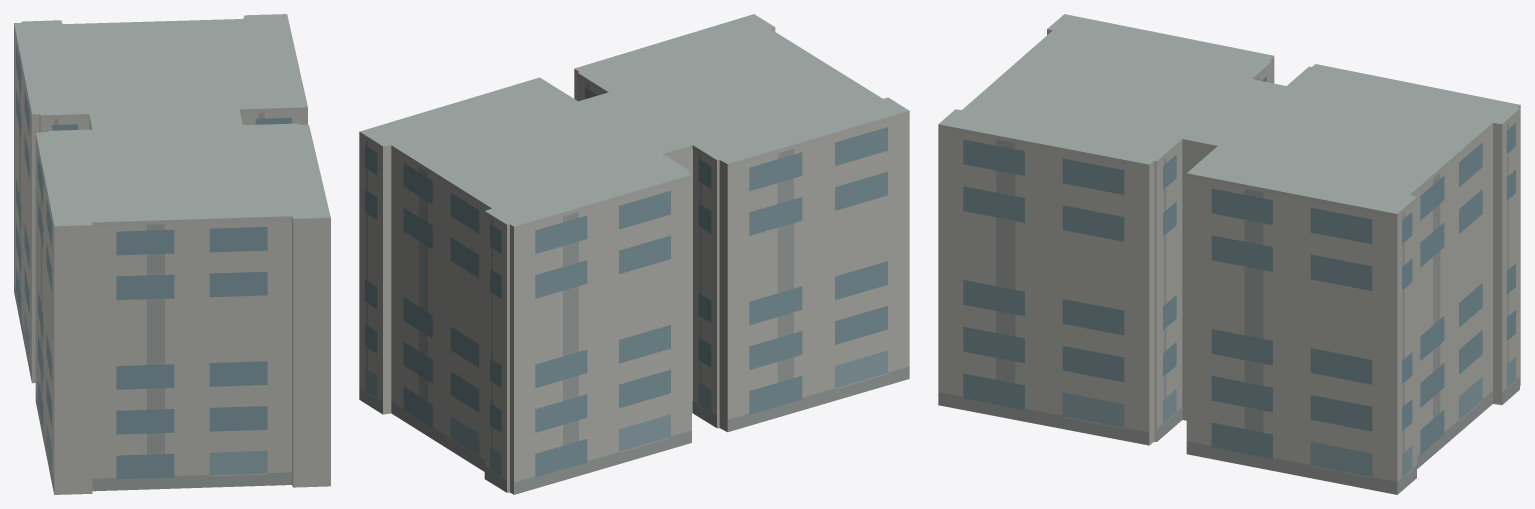
Rendered from survey-upis-32671476.glb.
3 views of the same model, side by side, from view 1: azimuth 30°, elevation 25°; view 2: azimuth 150°, elevation 25°; view 3: azimuth 270°, elevation 25° (orthographic). The views are drawn at different scales.
Visible parts, largest first — view 1: survey-upis-32671476.tmp; view 2: survey-upis-32671476.tmp; view 3: survey-upis-32671476.tmp.
Part boxes in pixels (x1,y1,x2,y2): survey-upis-32671476.tmp: (14, 14, 330, 494); survey-upis-32671476.tmp: (359, 14, 909, 494); survey-upis-32671476.tmp: (938, 14, 1520, 494).
Bounding box in the file's own units: 24.67 × 16.15 × 30.35.
